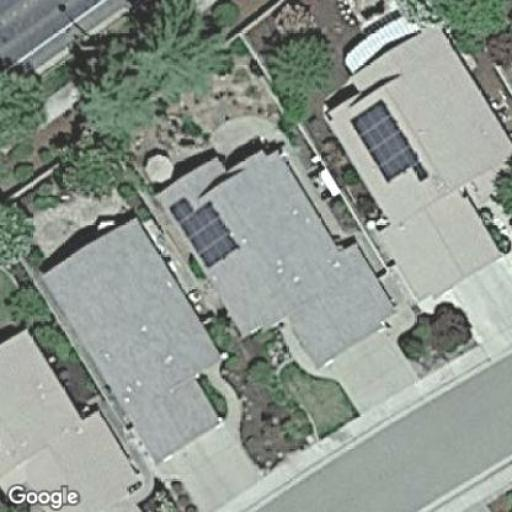solar-panel: (349, 98, 430, 191), (171, 196, 243, 269)
